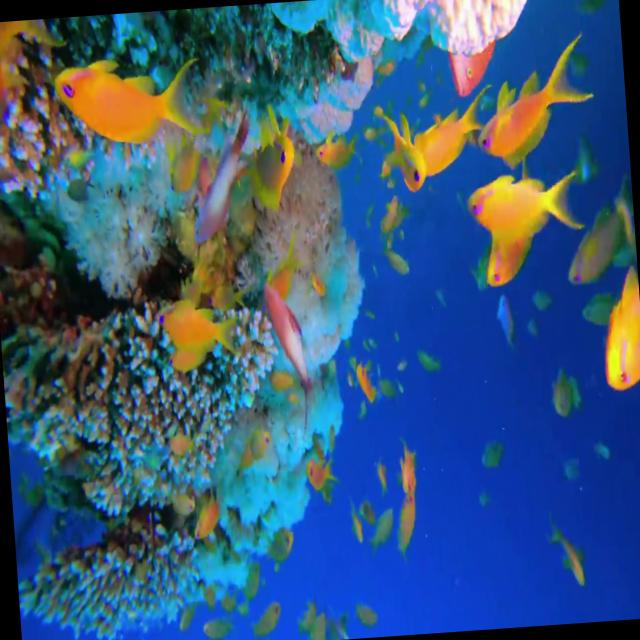fish: (60, 48, 205, 152), (472, 50, 579, 164), (466, 162, 578, 241), (259, 292, 309, 411), (242, 120, 296, 208), (385, 118, 433, 194)
